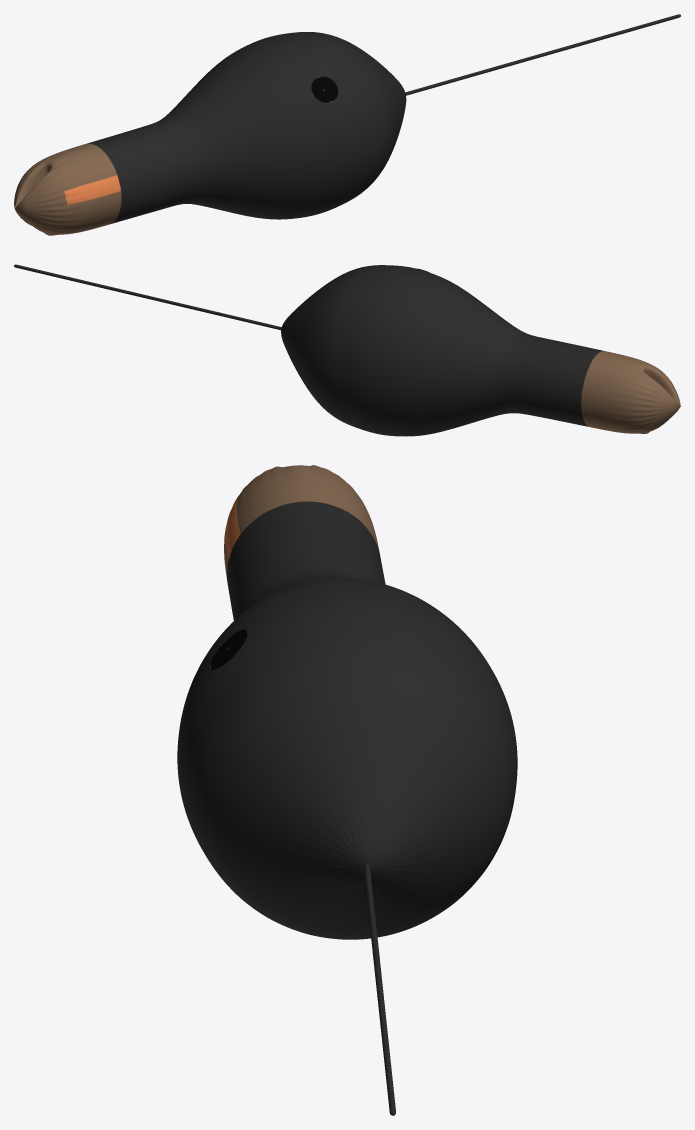
File: PSAT.glb
The picture shows the model from 3 angles, top to bottom: view 1: azimuth 30°, elevation 25°; view 2: azimuth 150°, elevation 25°; view 3: azimuth 270°, elevation 25°; orthographic projection. The views are drawn at different scales.
Parts seen in each view (by area): view 1: MiniPAT; view 2: MiniPAT; view 3: MiniPAT.
Part boxes in pixels (x1,y1,x2,y2): MiniPAT: (14, 14, 680, 235); MiniPAT: (14, 264, 680, 436); MiniPAT: (177, 465, 517, 1115).
Size of the model in its own units: 2.01 by 0.4609 by 0.4616.
1 material, 1 textured.
